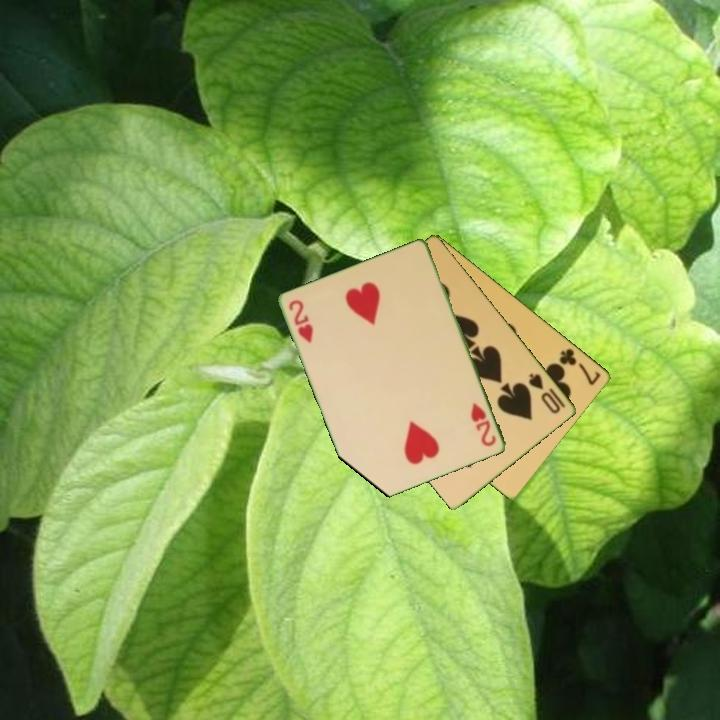10s: (525, 369, 569, 417)
2h: (467, 399, 499, 450), (286, 296, 317, 346)
7c: (556, 345, 604, 388)
